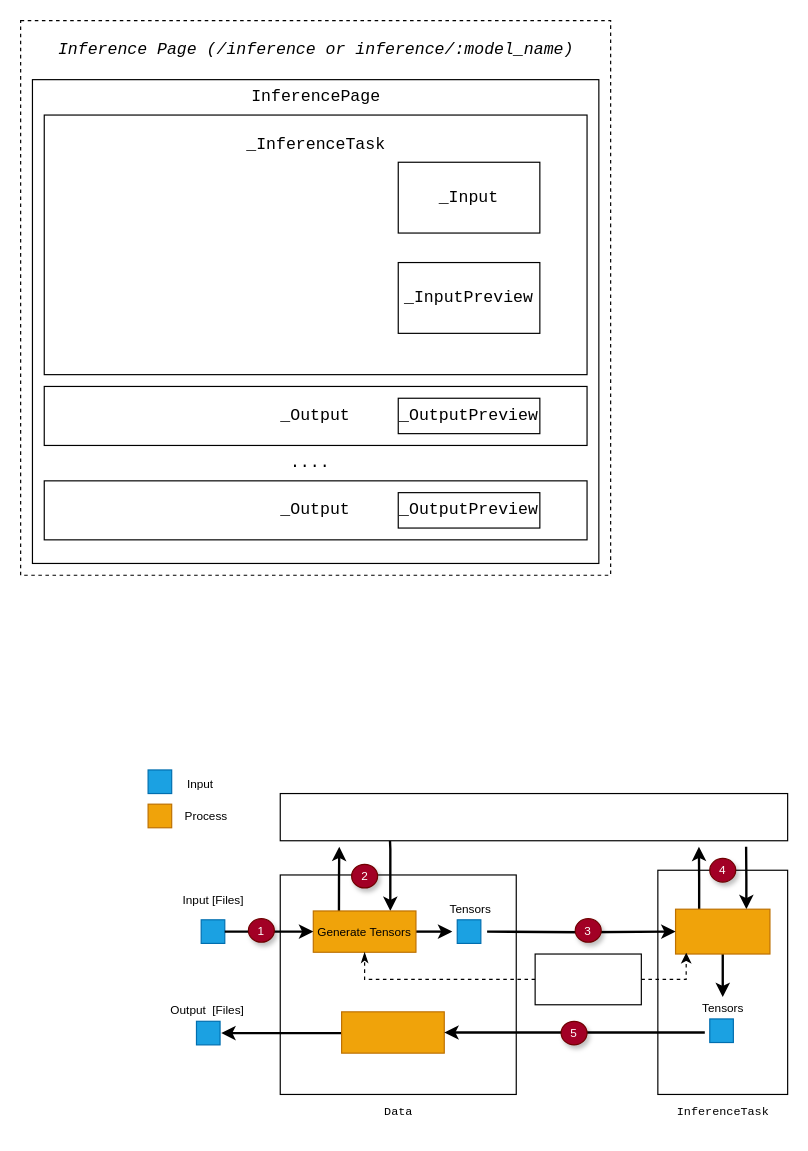
The diagram is 808 pixels wide and 1151 high, and some of its shapes have lost their labels. Each missing label, with the centre of its shape:
Generate Output: (x=392, y=1032)
ModelLibrary: (x=587, y=979)
Run Inference: (x=722, y=931)
Runtime environment: (x=533, y=816)
